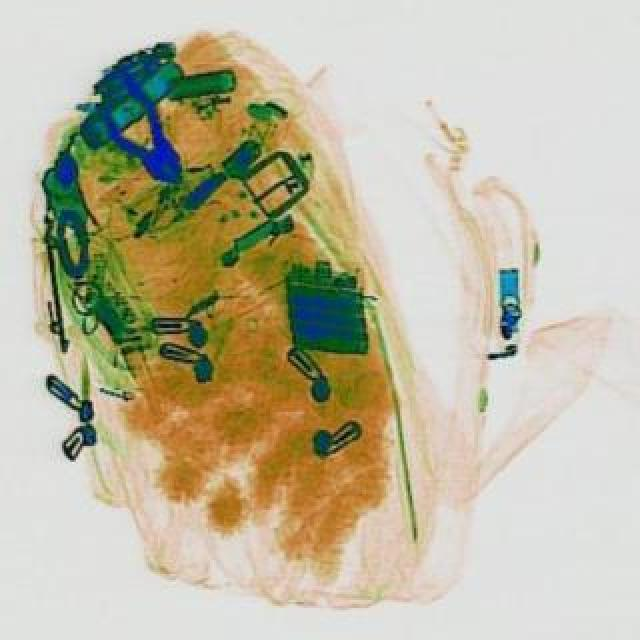wrench: (78, 62, 208, 198)
